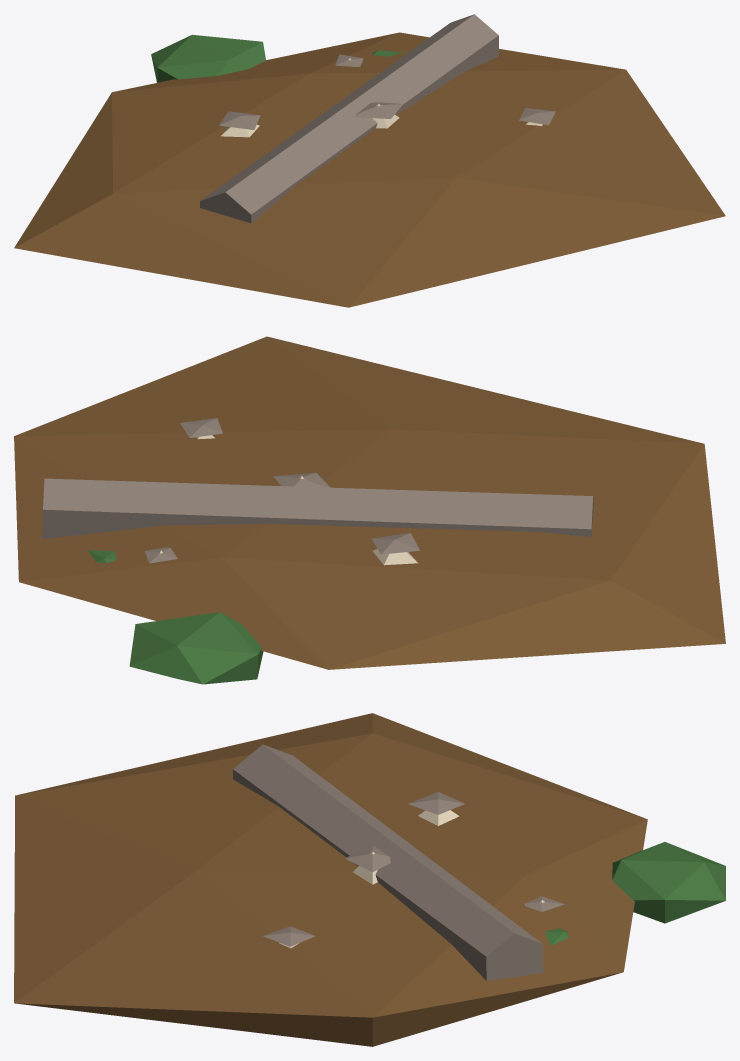
Rendered from mushroom_patch_harvested.glb.
The picture shows the model from 3 angles, top to bottom: view 1: azimuth 30°, elevation 25°; view 2: azimuth 150°, elevation 25°; view 3: azimuth 270°, elevation 25°; orthographic projection. The views are drawn at different scales.
Parts seen in each view (by area): view 1: mushroom_patch_harvested.001; view 2: mushroom_patch_harvested.001; view 3: mushroom_patch_harvested.001.
Part boxes in pixels (x1=…): mushroom_patch_harvested.001: x1=14, y1=14, x2=725, y2=307; mushroom_patch_harvested.001: x1=14, y1=336, x2=725, y2=684; mushroom_patch_harvested.001: x1=14, y1=713, x2=725, y2=1046.
Size of the model in its own units: 0.62 by 0.0695 by 0.5526.
